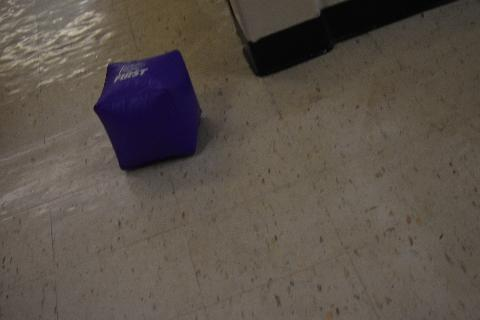cube: (94, 50, 202, 170)
